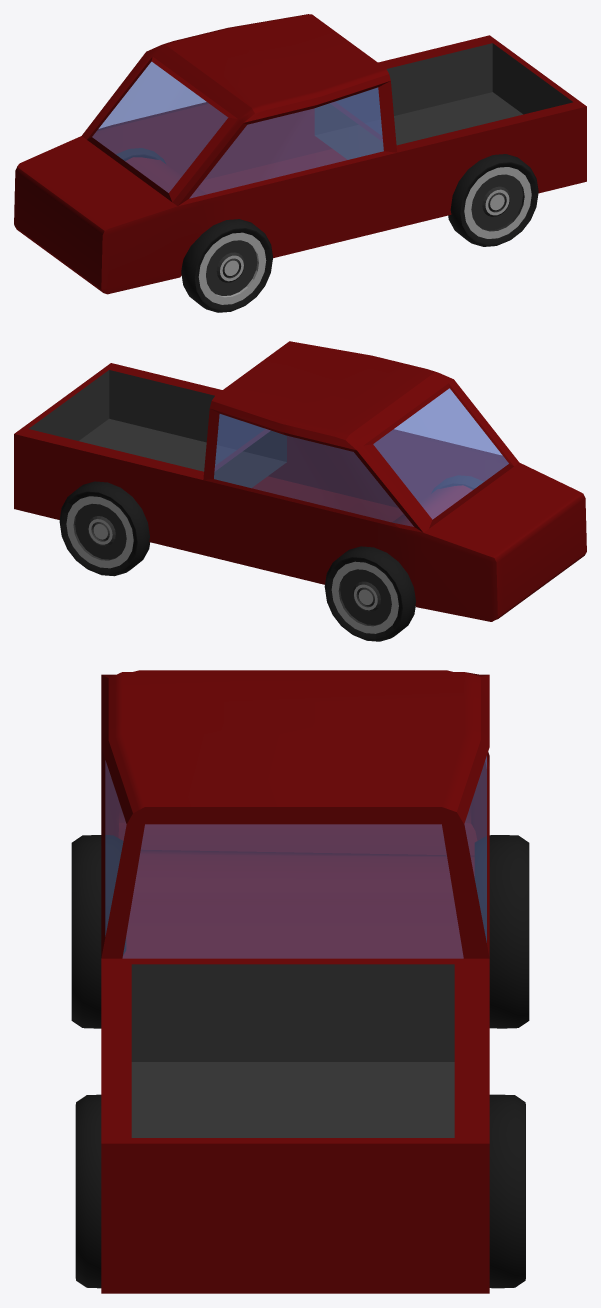
Rendered from car.fbx.
3 views of the same model, one above another, from view 1: azimuth 30°, elevation 25°; view 2: azimuth 150°, elevation 25°; view 3: azimuth 270°, elevation 25° (orthographic). The views are drawn at different scales.
Visible parts, largest first — view 1: group55_pCube174; view 2: group55_pCube174; view 3: group55_pCube174.
Part boxes in pixels (<box>): group55_pCube174: <box>14,14,586,312</box>; group55_pCube174: <box>14,341,586,641</box>; group55_pCube174: <box>71,670,529,1293</box>.
Bounding box in the file's own units: 12.35 × 4.67 × 5.1.
